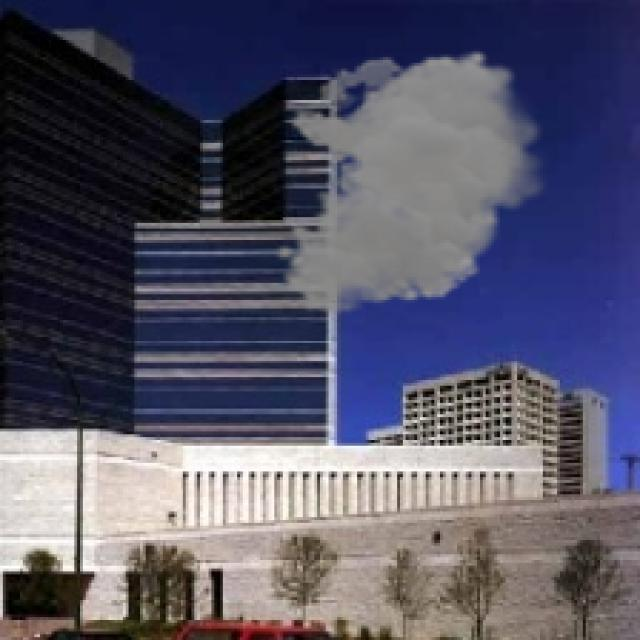smoke: (274, 49, 554, 314)
